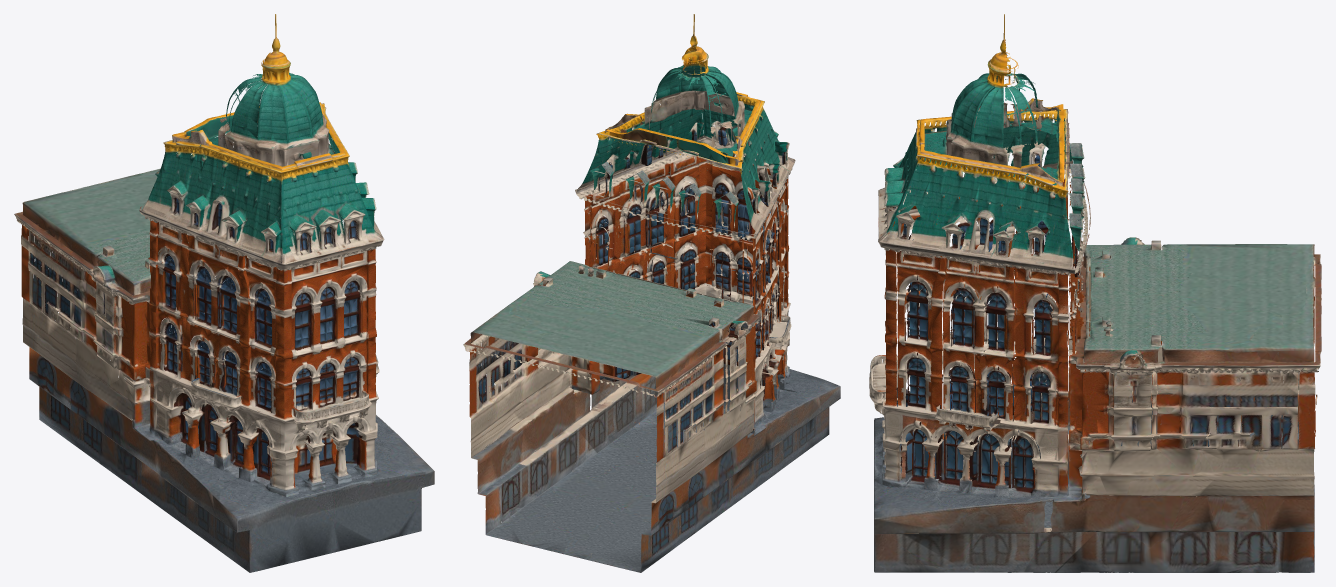
File: bank_block.glb
The picture shows the model from 3 angles, left to right: view 1: azimuth 30°, elevation 25°; view 2: azimuth 150°, elevation 25°; view 3: azimuth 270°, elevation 25°; orthographic projection. The views are drawn at different scales.
Bounding box in the file's own units: 0.9265 × 1.9 × 1.51.
1 material, 1 textured.
